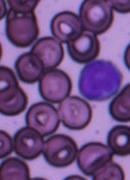L: (78, 58, 122, 102)
